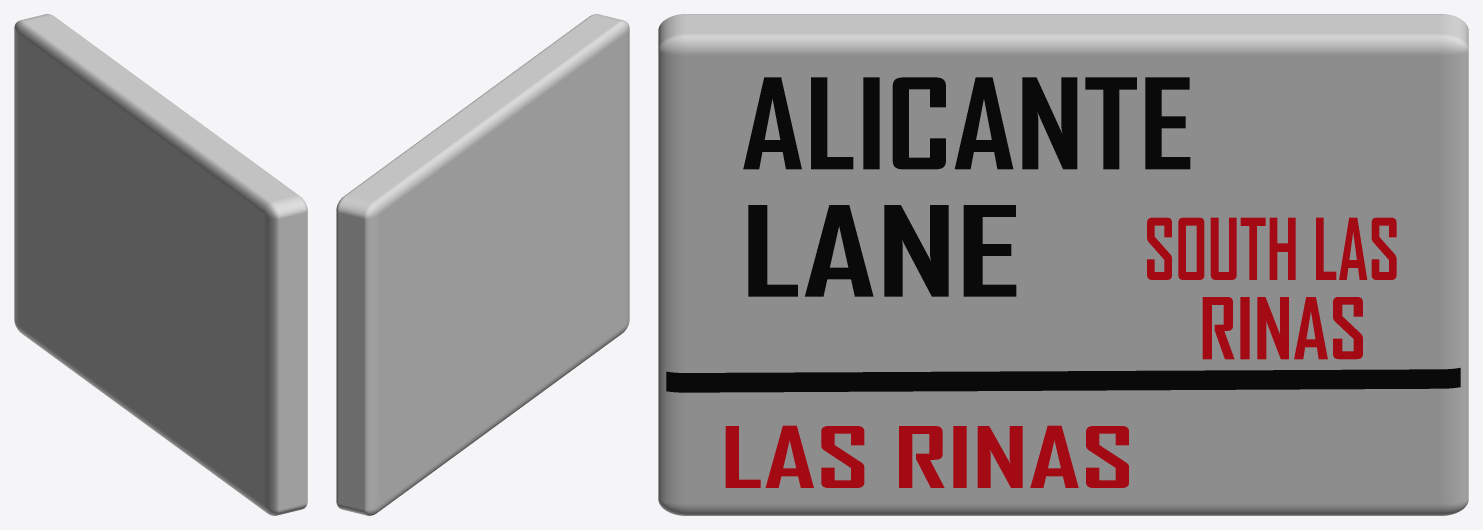
Rendered from uk_styled_street_sign_36.fbx.
3 renders of one model, left to right at view 1: azimuth 30°, elevation 25°; view 2: azimuth 150°, elevation 25°; view 3: azimuth 270°, elevation 25°, orthographic. The views are drawn at different scales.
Visible parts, largest first — view 1: Cube; view 2: Cube; view 3: Cube, Text, Text.001, Text.002, Text.003, Text.004.
Part boxes in pixels (x1,y1,x2,y2): Cube: [14, 14, 307, 515]; Cube: [336, 14, 629, 515]; Cube: [658, 14, 1468, 515]; Text: [743, 77, 1190, 169]; Text.001: [748, 205, 1016, 296]; Text.002: [725, 425, 1128, 487]; Text.003: [1147, 217, 1396, 279]; Text.004: [1202, 297, 1362, 359].
Size of the model in its own units: 1.63 by 11.91 by 18.18.
